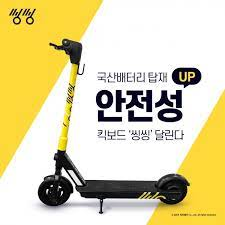kick_body: (86, 180, 158, 198)
kick_handler: (50, 39, 81, 63)
kick_neck: (54, 64, 78, 169)
kick_wheel: (39, 176, 70, 206), (161, 174, 186, 203)
